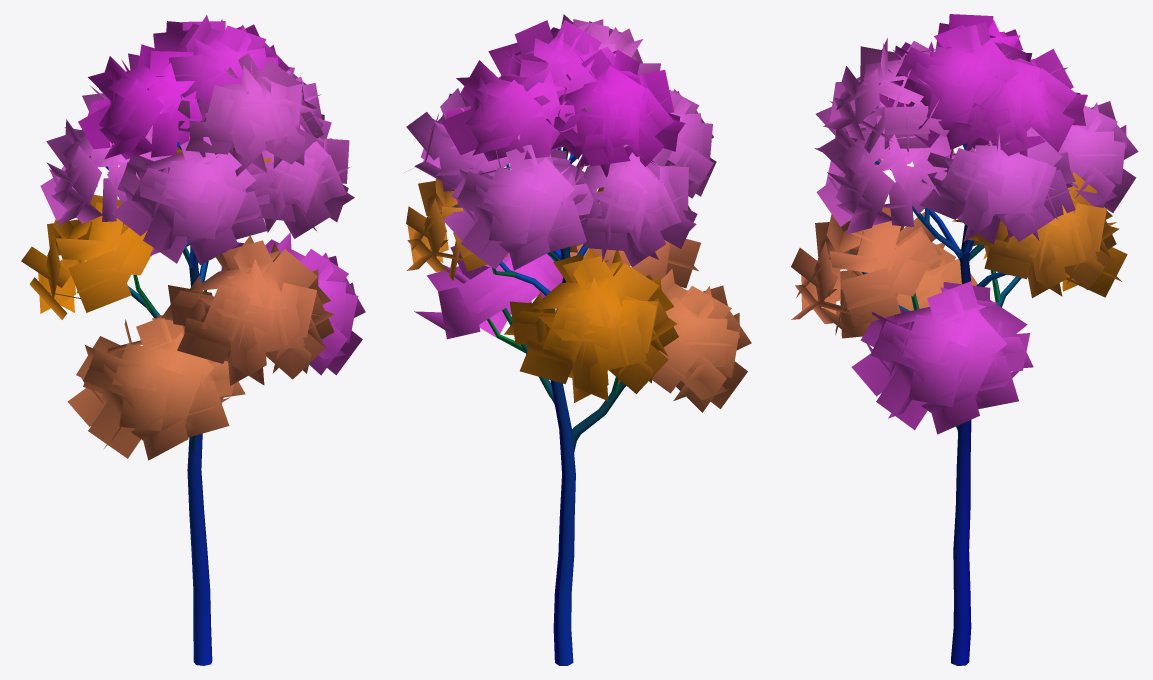
Rendered from treeOneLod0.glb.
3 renders of one model, left to right at view 1: azimuth 30°, elevation 25°; view 2: azimuth 150°, elevation 25°; view 3: azimuth 270°, elevation 25°, orthographic.
Parts seen in each view (by area): view 1: Mesh_0.012; view 2: Mesh_0.012; view 3: Mesh_0.012.
Boxes of the visible parts, left/top/right/bottom form: Mesh_0.012: left=21, top=15, right=365, bottom=665; Mesh_0.012: left=404, top=14, right=751, bottom=665; Mesh_0.012: left=791, top=14, right=1138, bottom=665.
Bounding box in the file's own units: 13.38 × 27.6 × 13.94.
